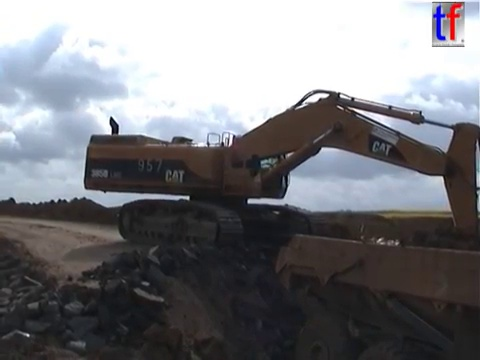excavator: (80, 87, 479, 287)
truck: (270, 214, 480, 360)
